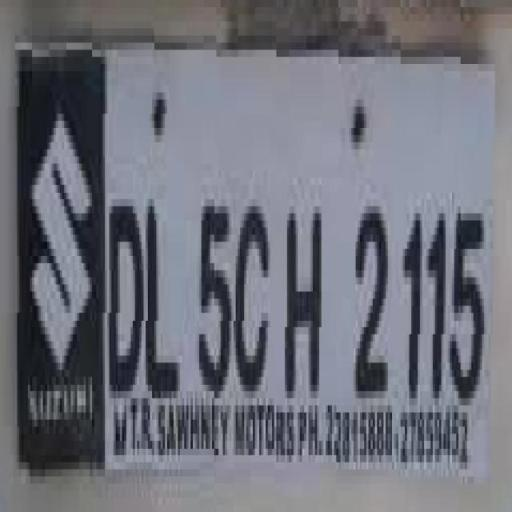number plate: (21, 56, 512, 469)
